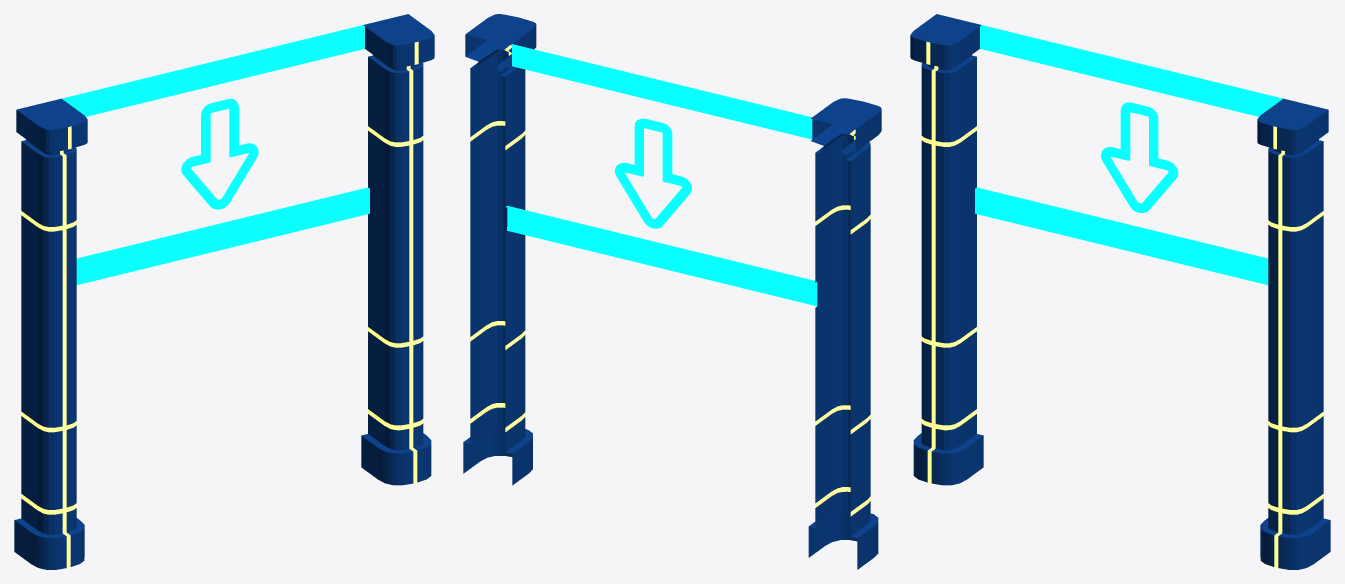
Rendered from slideObstacle.glb.
3 renders of one model, left to right at view 1: azimuth 30°, elevation 25°; view 2: azimuth 150°, elevation 25°; view 3: azimuth 330°, elevation 25°, orthographic.
Parts seen in each view (by area): view 1: Box010; view 2: Box010; view 3: Box010.
Part boxes in pixels (x1,y1,x2,y2): Box010: [14, 14, 434, 569]; Box010: [463, 14, 881, 569]; Box010: [910, 14, 1330, 569].
Bounding box in the file's own units: 0.0902 × 0.0962 × 0.0122.
